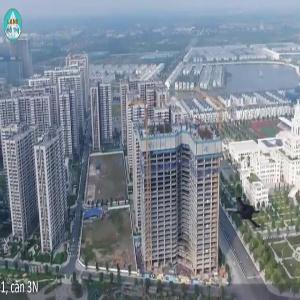drone: (219, 187, 271, 239)
